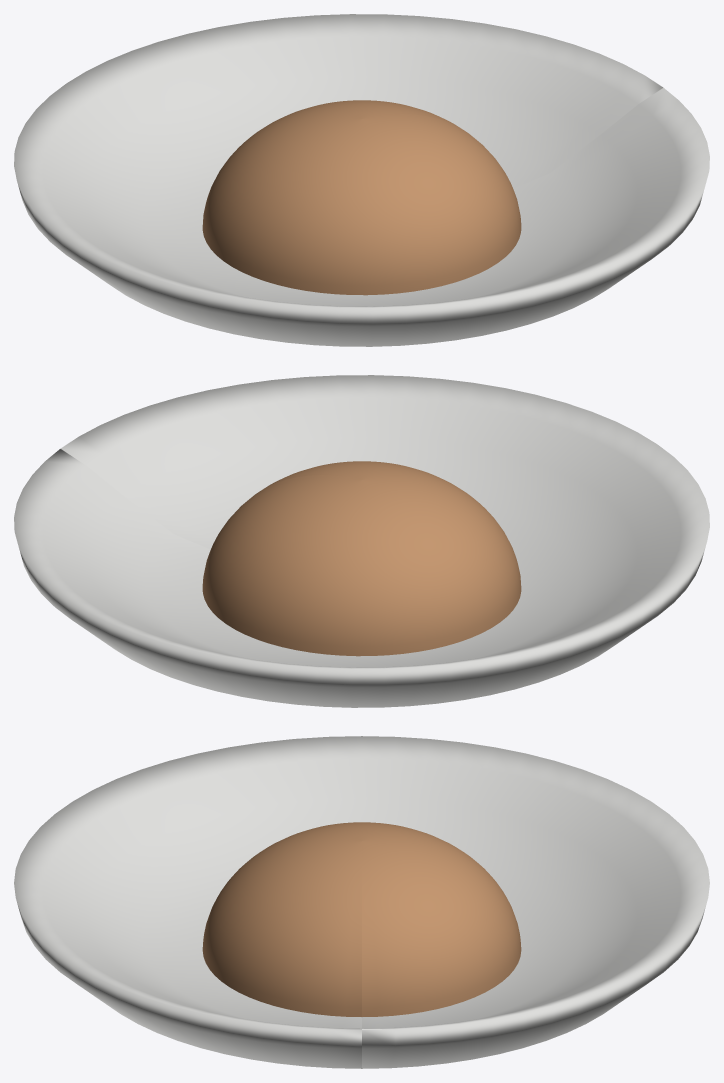
File: plato-demo.glb
The picture shows the model from 3 angles, top to bottom: view 1: azimuth 30°, elevation 25°; view 2: azimuth 150°, elevation 25°; view 3: azimuth 270°, elevation 25°; orthographic projection.
Visible parts, largest first — view 1: plato-demo; view 2: plato-demo; view 3: plato-demo.
Part boxes in pixels (bbox=[...]): plato-demo: bbox=[14, 14, 709, 346]; plato-demo: bbox=[14, 375, 709, 707]; plato-demo: bbox=[14, 736, 709, 1068].
Bounding box in the file's own units: 0.24 × 0.056 × 0.24.
